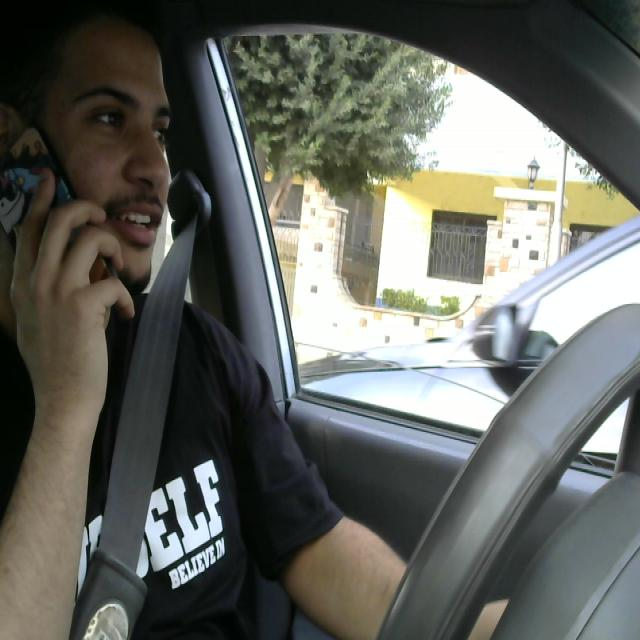mobile use: (0, 105, 130, 340)
